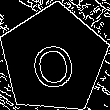O_N: (27, 29, 80, 90)
